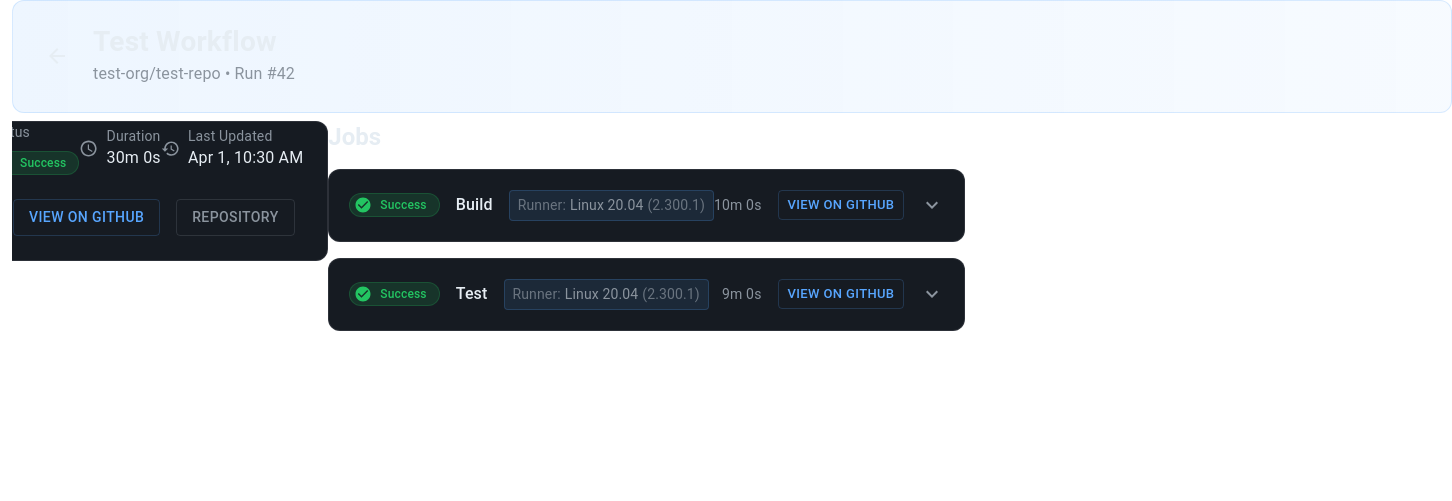
Scenario: WorkflowDetails Component › expands job details when job row is clicked
The width and height of the screenshot is (1452, 501).
// After clicking, we should see steps
Click the text "Build". click: coordinates (474, 205)
box: [456, 193, 493, 217]
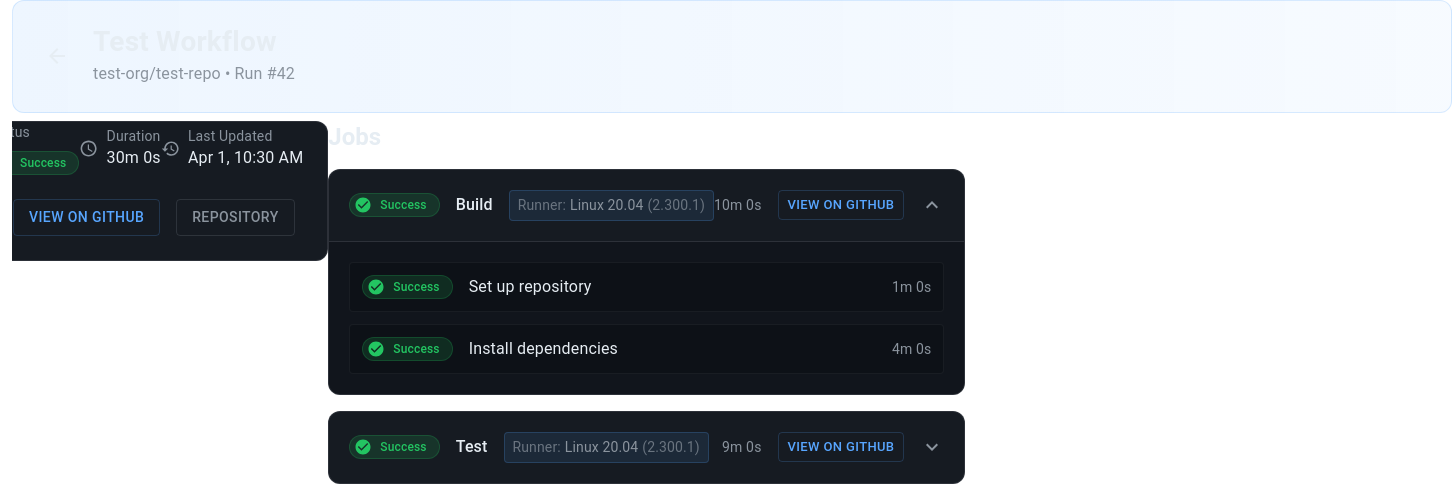
Expected: the text "Set up repository" is shown, [469, 275, 592, 299]
Expected: the text "Install dependencies" is shown, [469, 337, 618, 361]
